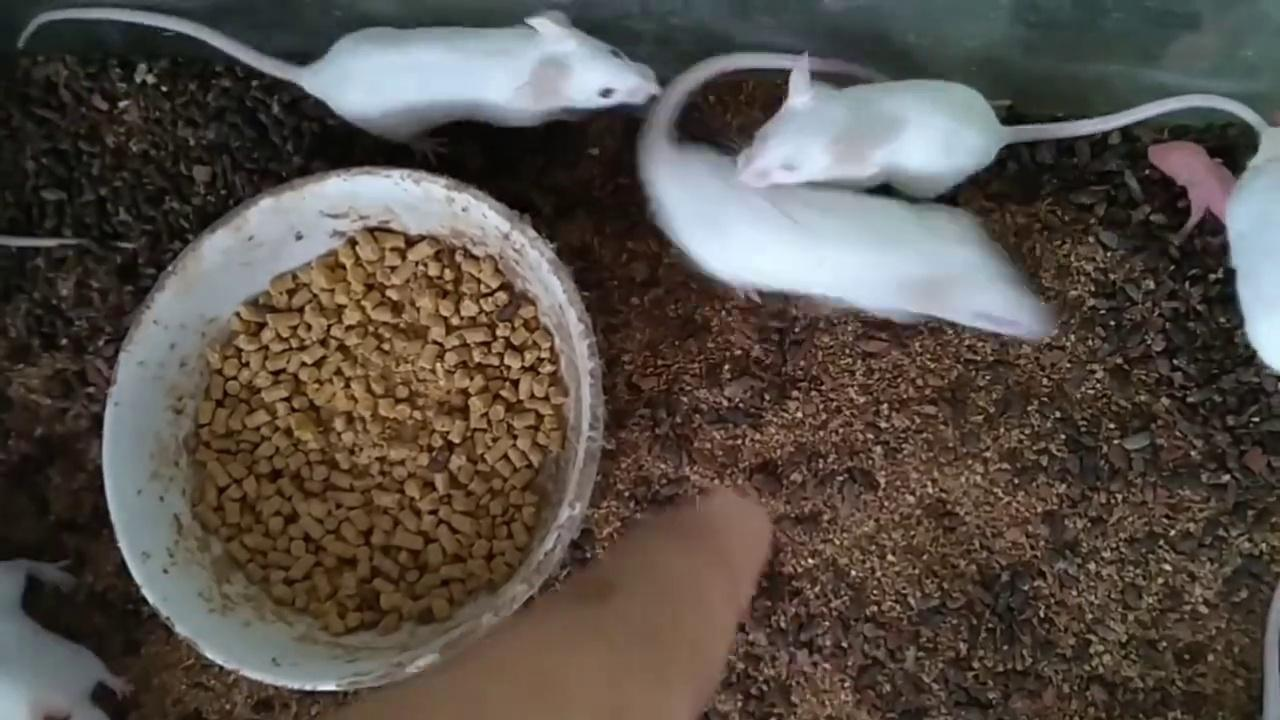rat: (638, 51, 1064, 342), (16, 11, 659, 162), (742, 50, 1264, 197), (0, 556, 137, 720), (1147, 141, 1235, 243)
